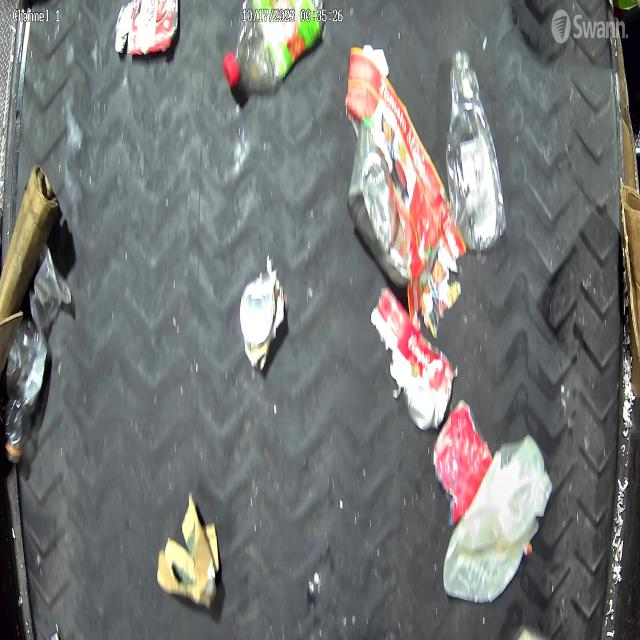can: (240, 260, 288, 371)
milk_jug: (443, 434, 554, 603)
plastic_bottle: (448, 46, 506, 254), (223, 0, 325, 92), (2, 318, 46, 461)
